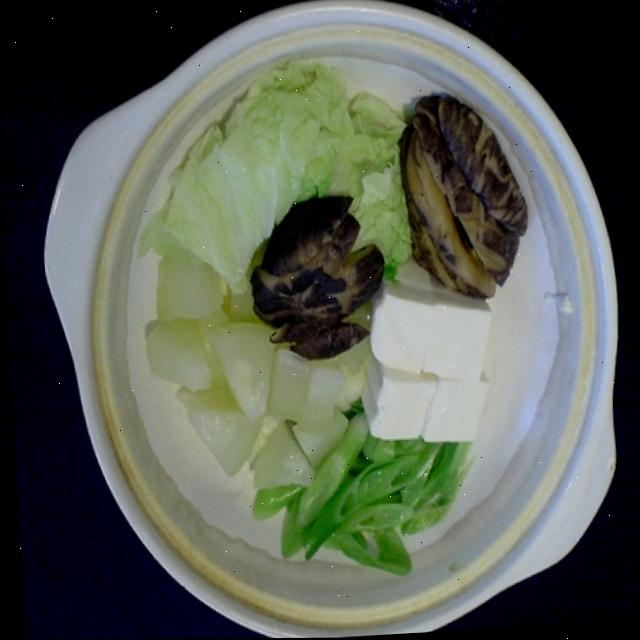豆腐料理: (44, 0, 631, 640)
